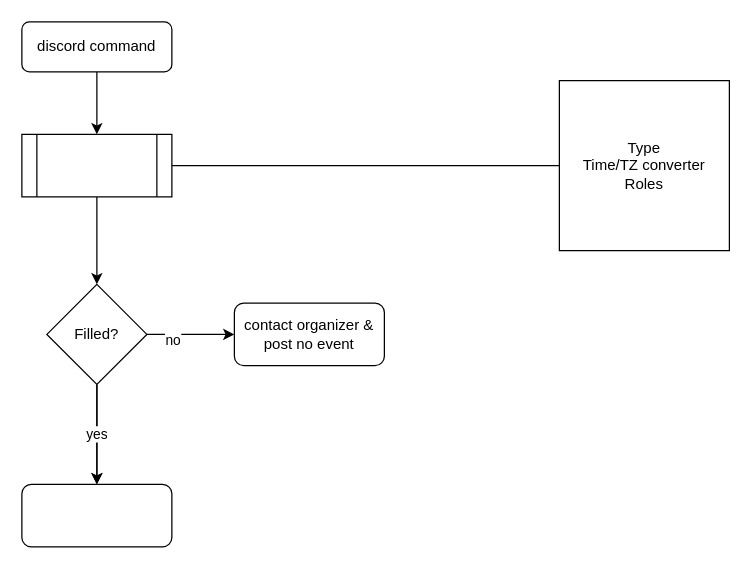
Image size: 751x569. Some labels were removed from this diagram. Here are the shapes that lost their labels. From the top down, the centre of each, then its label:
the point at 96,165: Create Details
the point at 96,515: output event details
